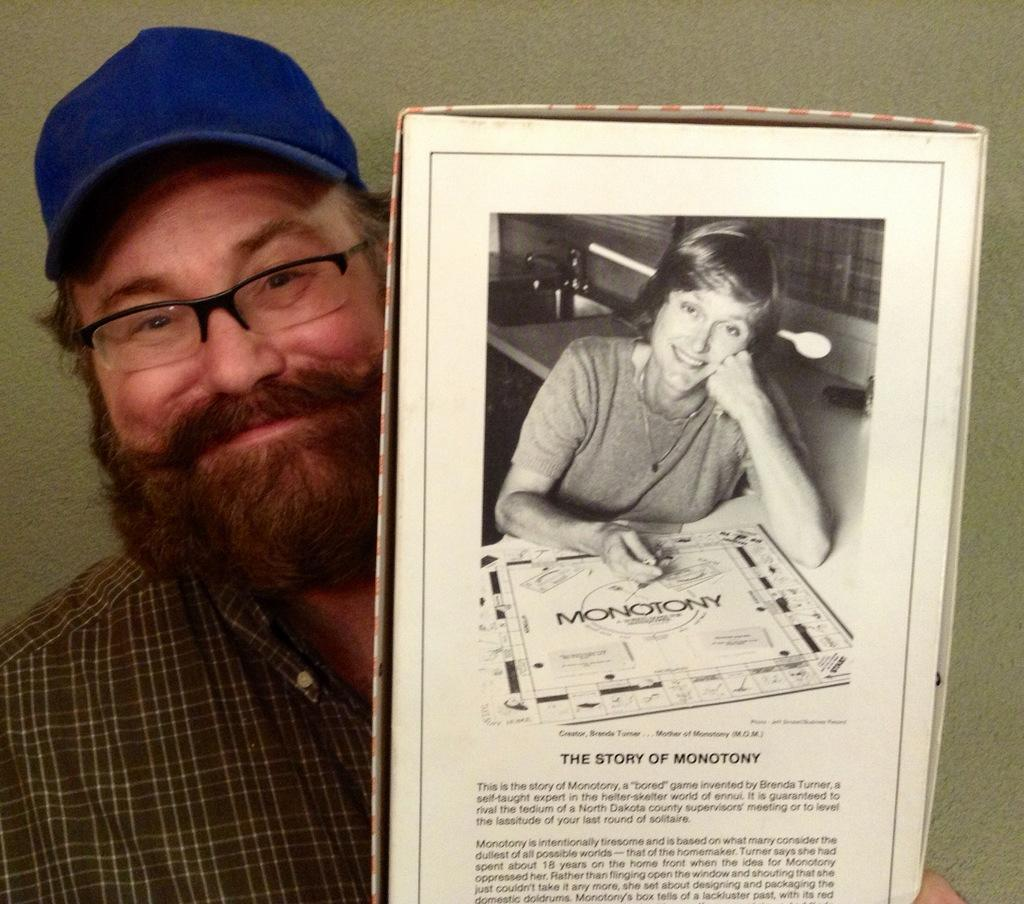Hat: (30, 26, 364, 284)
